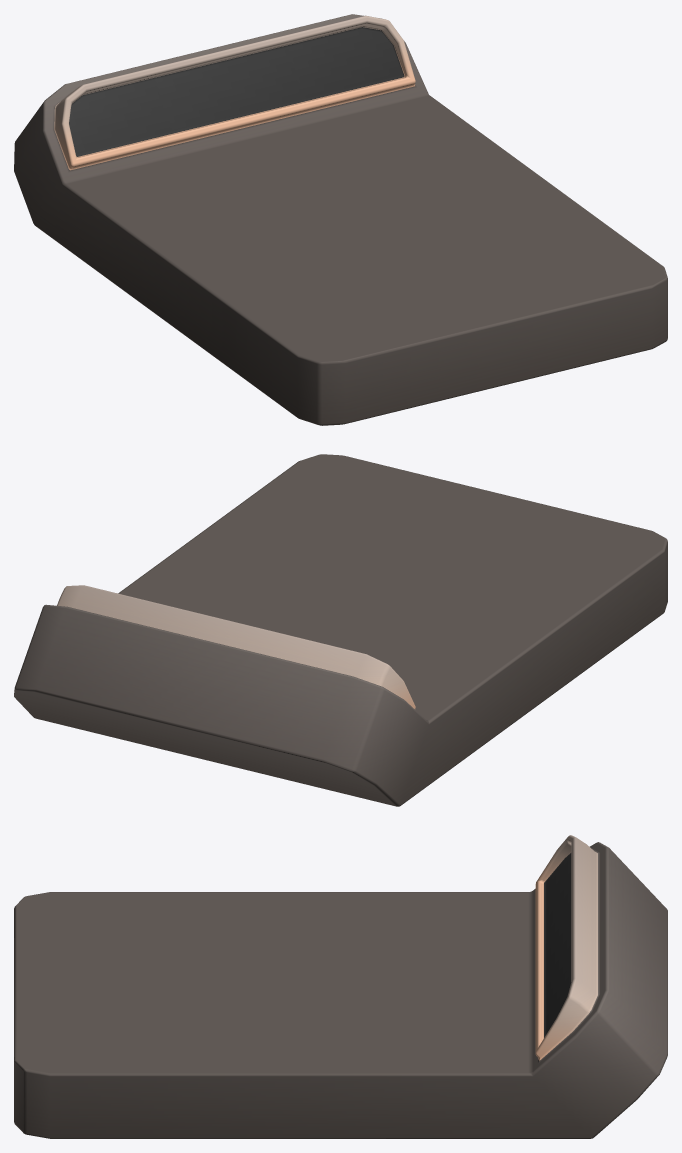
The model's file is SM_Phone_AnsweringMachine.fbx.
The picture shows the model from 3 angles, top to bottom: view 1: azimuth 30°, elevation 25°; view 2: azimuth 150°, elevation 25°; view 3: azimuth 270°, elevation 25°; orthographic projection. The views are drawn at different scales.
Parts seen in each view (by area): view 1: Phone_AnsweringMachine; view 2: Phone_AnsweringMachine; view 3: Phone_AnsweringMachine.
Part boxes in pixels (x1,y1,x2,y2): Phone_AnsweringMachine: (14, 14, 667, 425); Phone_AnsweringMachine: (14, 454, 667, 806); Phone_AnsweringMachine: (14, 835, 667, 1138).
Bounding box in the file's own units: 300 × 107 × 452.
